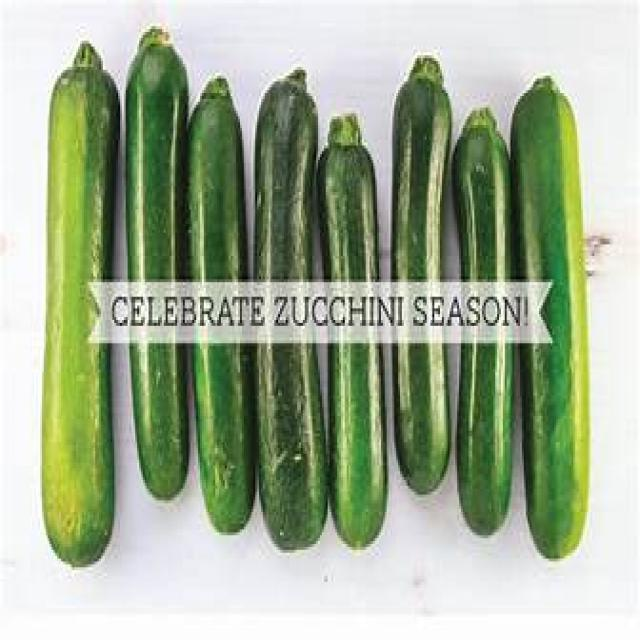Zucchini: (48, 80, 112, 583)
